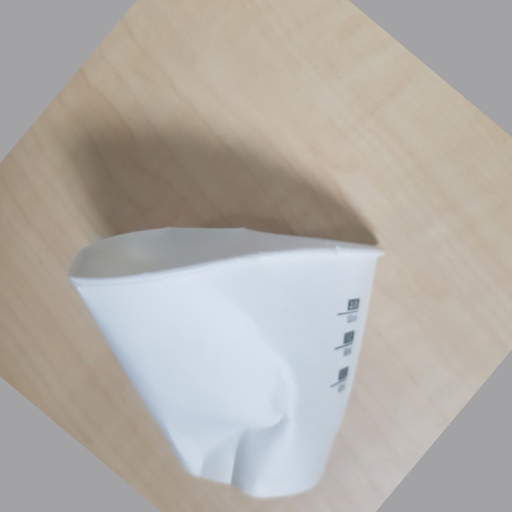Paper_1: (71, 225, 383, 496)
